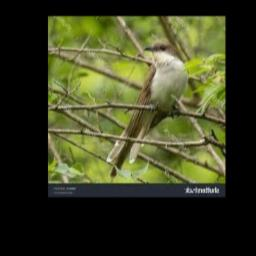Cuckoo: (107, 40, 187, 177)
